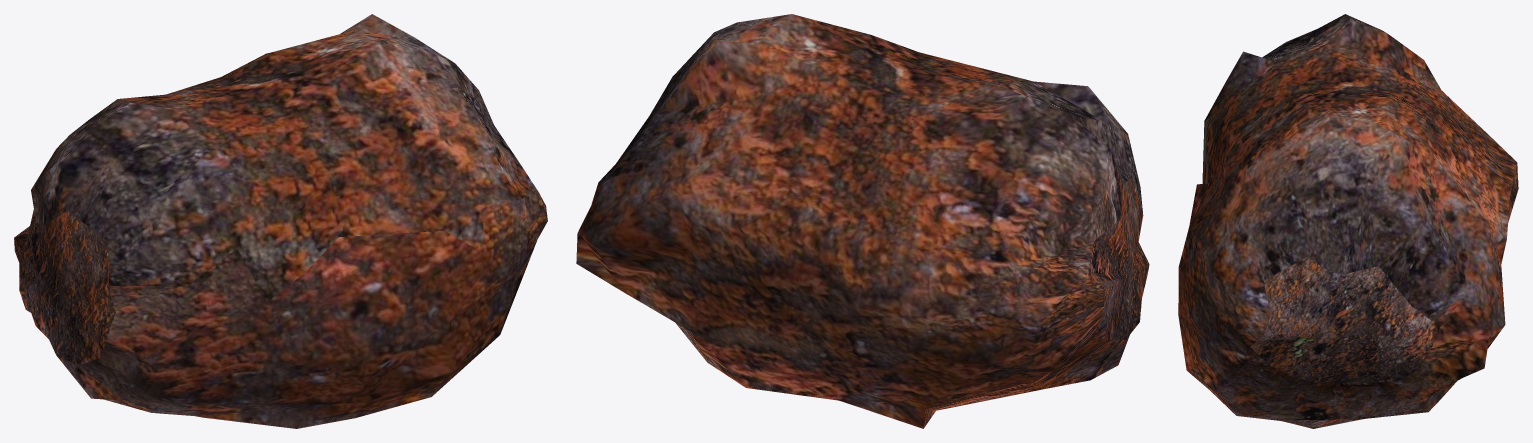
File: stone_1.FBX
3 views of the same model, side by side, from view 1: azimuth 30°, elevation 25°; view 2: azimuth 150°, elevation 25°; view 3: azimuth 270°, elevation 25° (orthographic). The views are drawn at different scales.
Parts seen in each view (by area): view 1: Sphere01; view 2: Sphere01; view 3: Sphere01.
Boxes of the visible parts, x1,y1,x2,y2 form: Sphere01: (14,14,547,428); Sphere01: (576,14,1149,428); Sphere01: (1178,14,1518,428).
Size of the model in its own units: 65.56 by 45.18 by 44.45.
